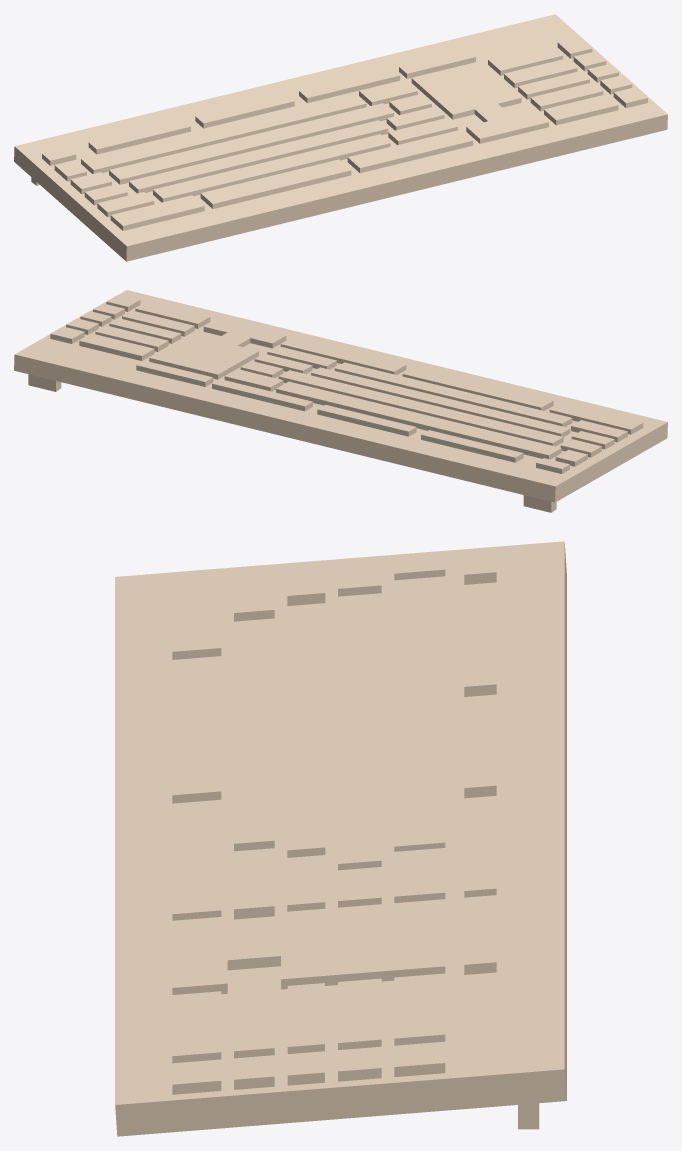
Rendered from keyboard1.fbx.
3 views of the same model, one above another, from view 1: azimuth 30°, elevation 25°; view 2: azimuth 150°, elevation 25°; view 3: azimuth 270°, elevation 25° (orthographic). The views are drawn at different scales.
Visible parts, largest first — view 1: keyboard1; view 2: keyboard1; view 3: keyboard1.
Boxes of the visible parts, x1,y1,x2,y2 form: keyboard1: (14, 14, 667, 261); keyboard1: (14, 290, 667, 512); keyboard1: (115, 541, 566, 1136).
Size of the model in its own units: 45.73 by 2.91 by 16.53.
